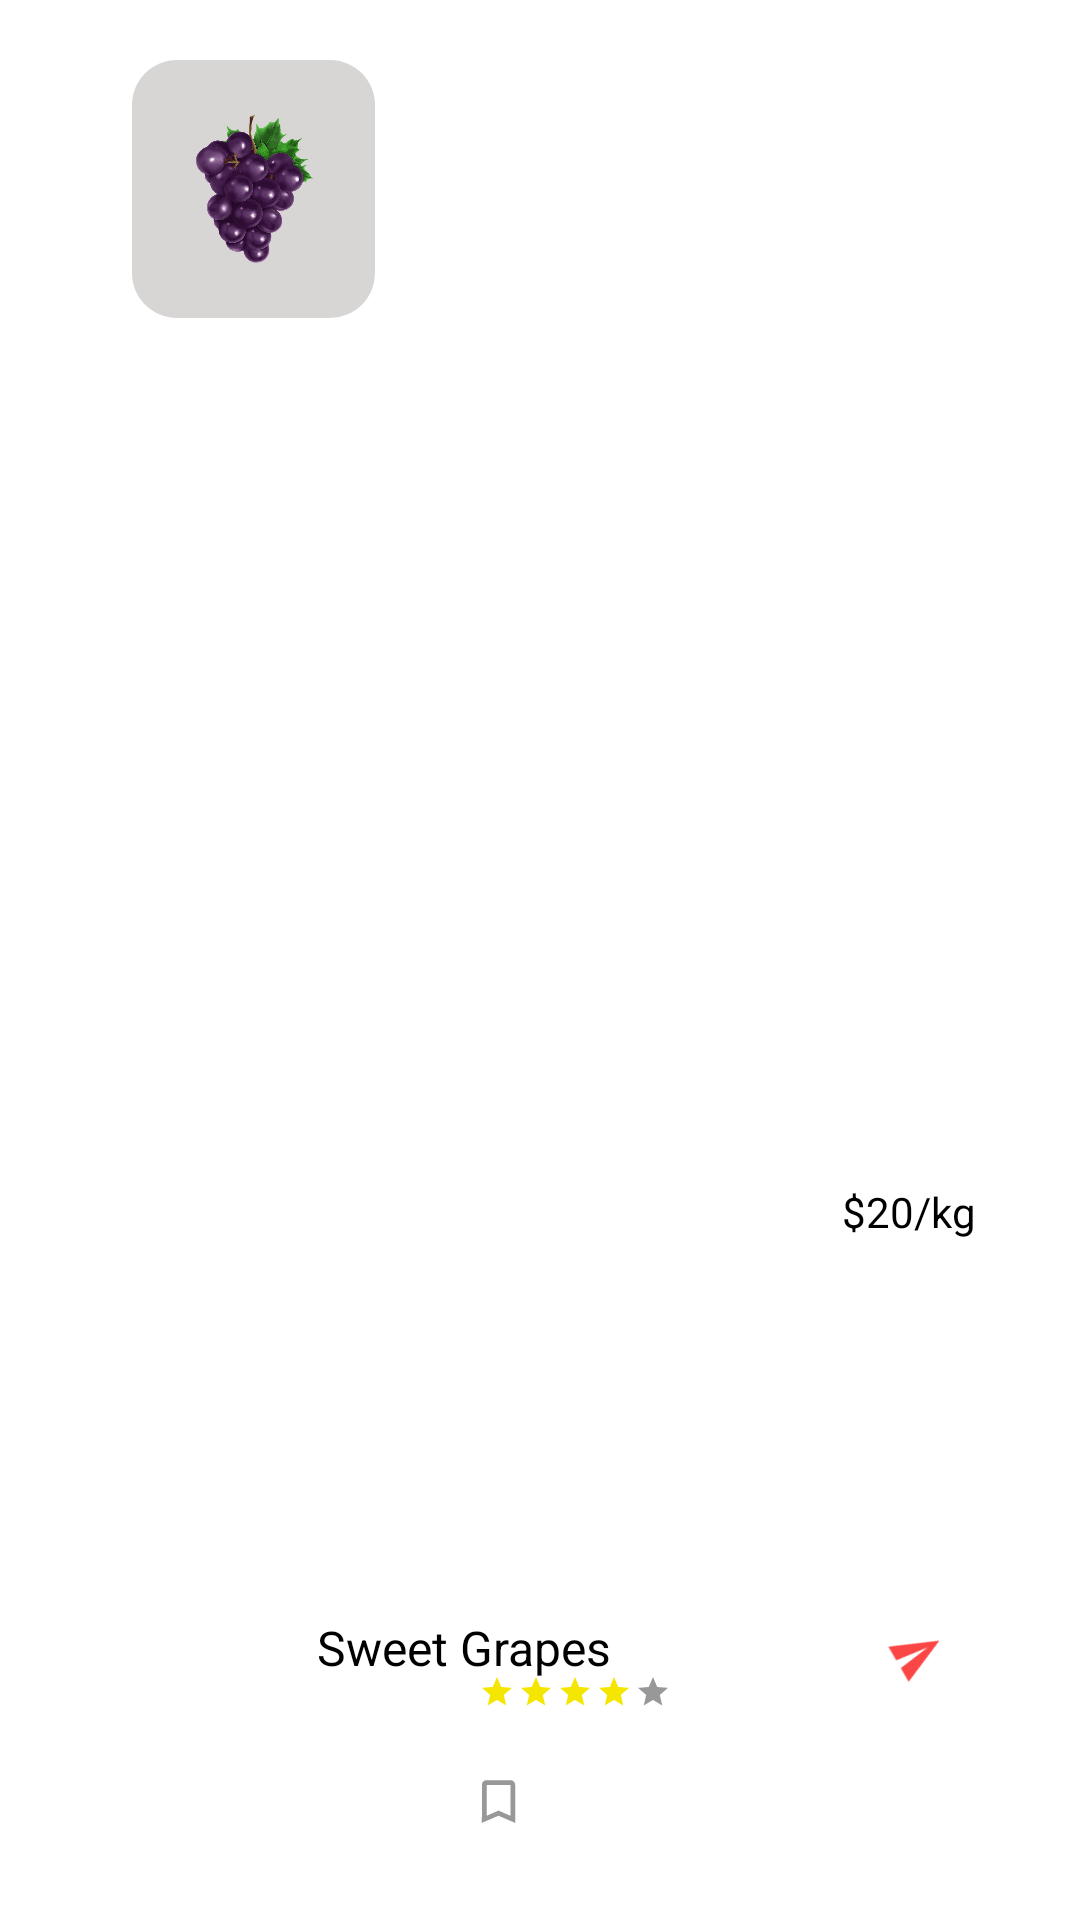

Icons on this 1080px x 1920px Android screen, each with the point to tap as point (x, y):
bookmark: point (498, 1801)
estrelaamarela: point (497, 1691), point (536, 1691), point (575, 1691), point (614, 1691)
estrelacinza: point (653, 1691)
uvaa: point (253, 189)
